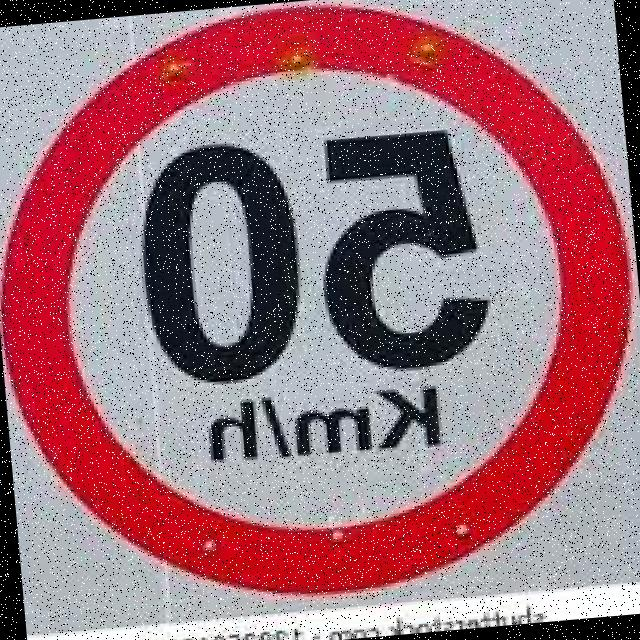speed_limit_50: (0, 0, 640, 621)
